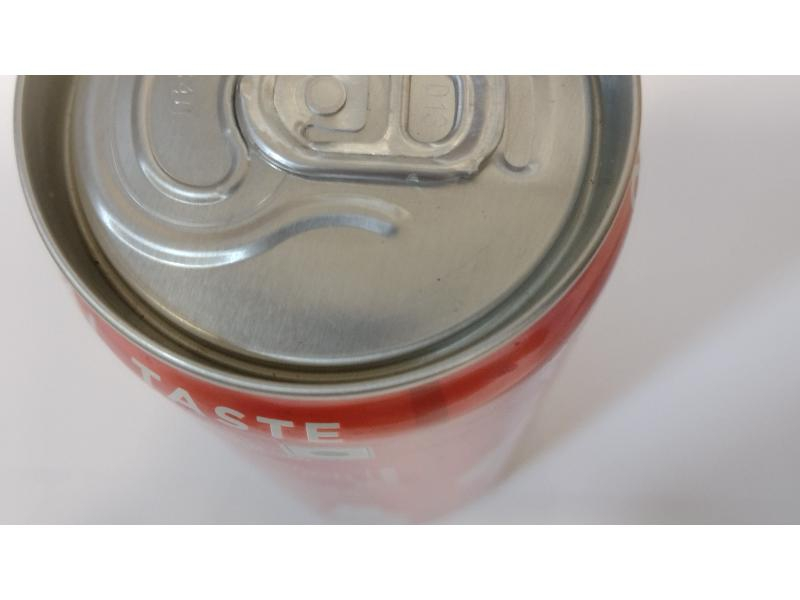can: (17, 74, 655, 528)
